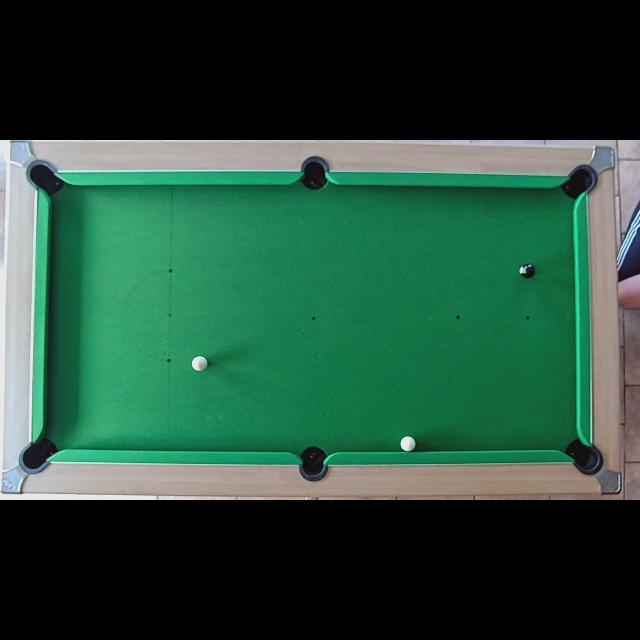Ball: (192, 356, 206, 372), (401, 436, 415, 452), (520, 264, 536, 278)
